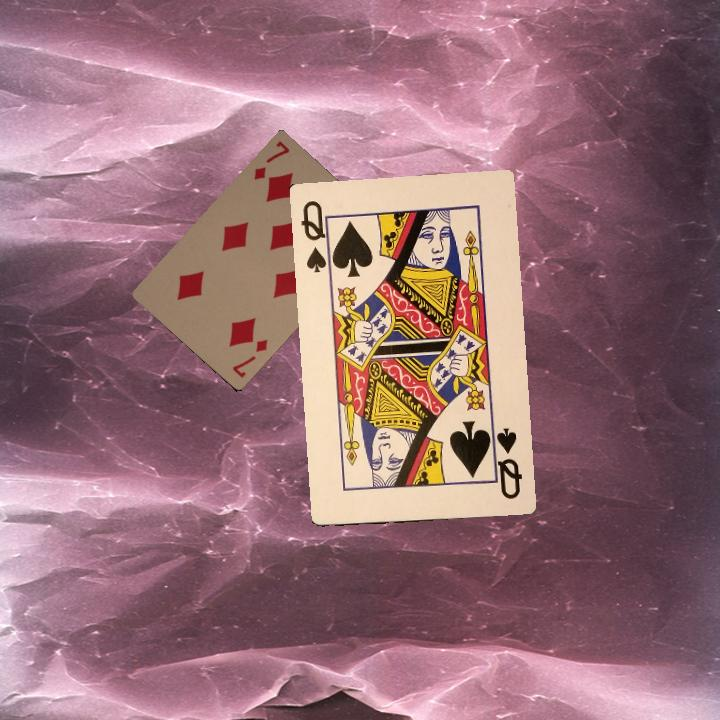7d: (249, 137, 292, 183), (228, 335, 270, 381)
Qs: (297, 197, 337, 275), (487, 422, 524, 502)
